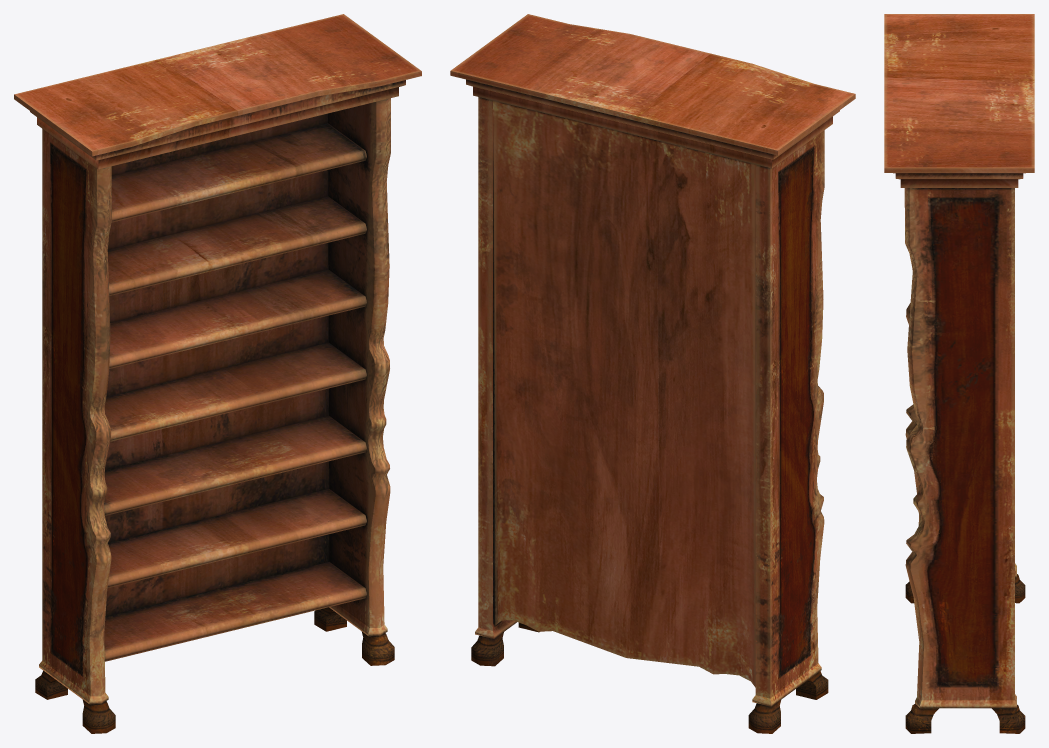
Rendered from shelf_high01.dae.
3 views of the same model, side by side, from view 1: azimuth 30°, elevation 25°; view 2: azimuth 150°, elevation 25°; view 3: azimuth 270°, elevation 25° (orthographic). The views are drawn at different scales.
Parts seen in each view (by area): view 1: shelf_high01_mesh; view 2: shelf_high01_mesh; view 3: shelf_high01_mesh.
Boxes of the visible parts, box(x1,y1,x2,y2) form: shelf_high01_mesh: box(14, 14, 421, 733); shelf_high01_mesh: box(450, 14, 855, 733); shelf_high01_mesh: box(884, 14, 1034, 733).
Bounding box in the file's own units: 2.24 × 3.91 × 0.9218.
